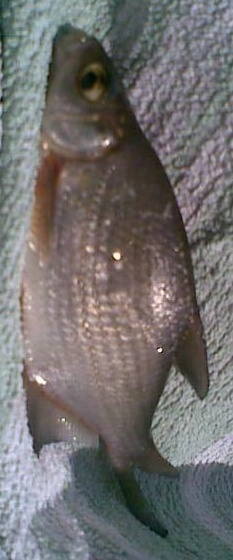Blicca bjoerkna: (20, 20, 213, 540)
